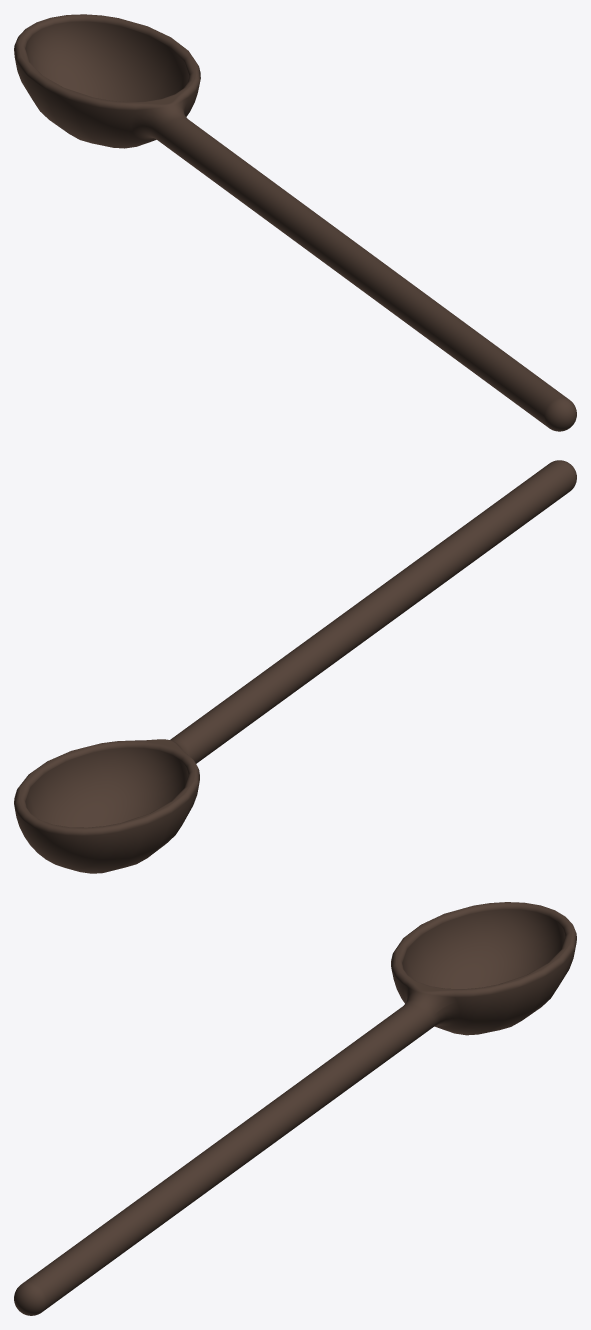
The picture shows the model from 3 angles, top to bottom: view 1: azimuth 30°, elevation 25°; view 2: azimuth 150°, elevation 25°; view 3: azimuth 330°, elevation 25°; orthographic projection.
Visible parts, largest first — view 1: spoon; view 2: spoon; view 3: spoon.
Boxes of the visible parts, left/top/right/bottom form: spoon: left=14, top=14, right=576, bottom=431; spoon: left=14, top=460, right=576, bottom=873; spoon: left=14, top=902, right=576, bottom=1315.
Bounding box in the file's own units: 0.1511 × 0.0749 × 0.9329.
